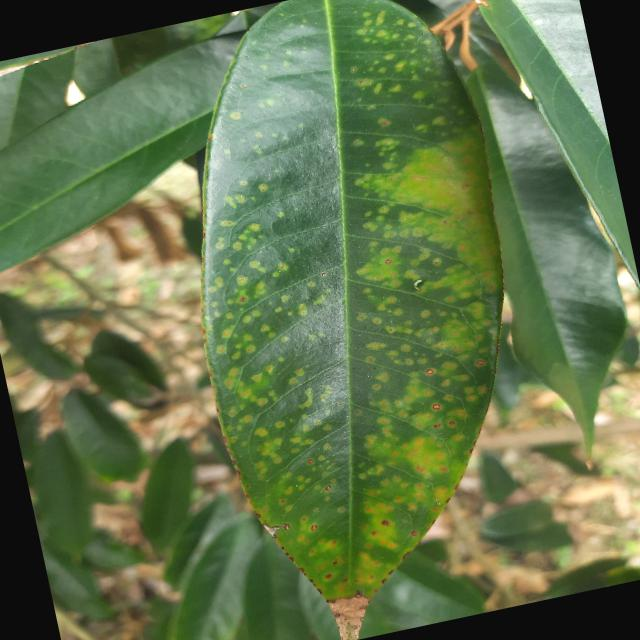Leaf Spot: (113, 0, 593, 639)
